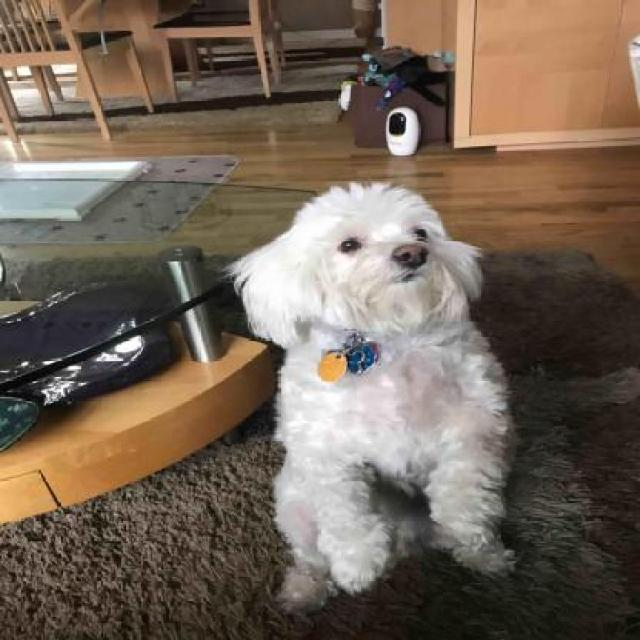Dog: (217, 183, 525, 609)
